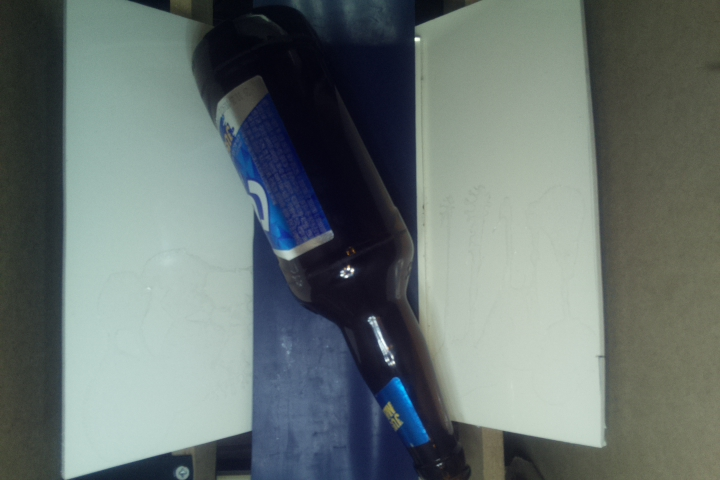makju: (189, 10, 478, 480)
